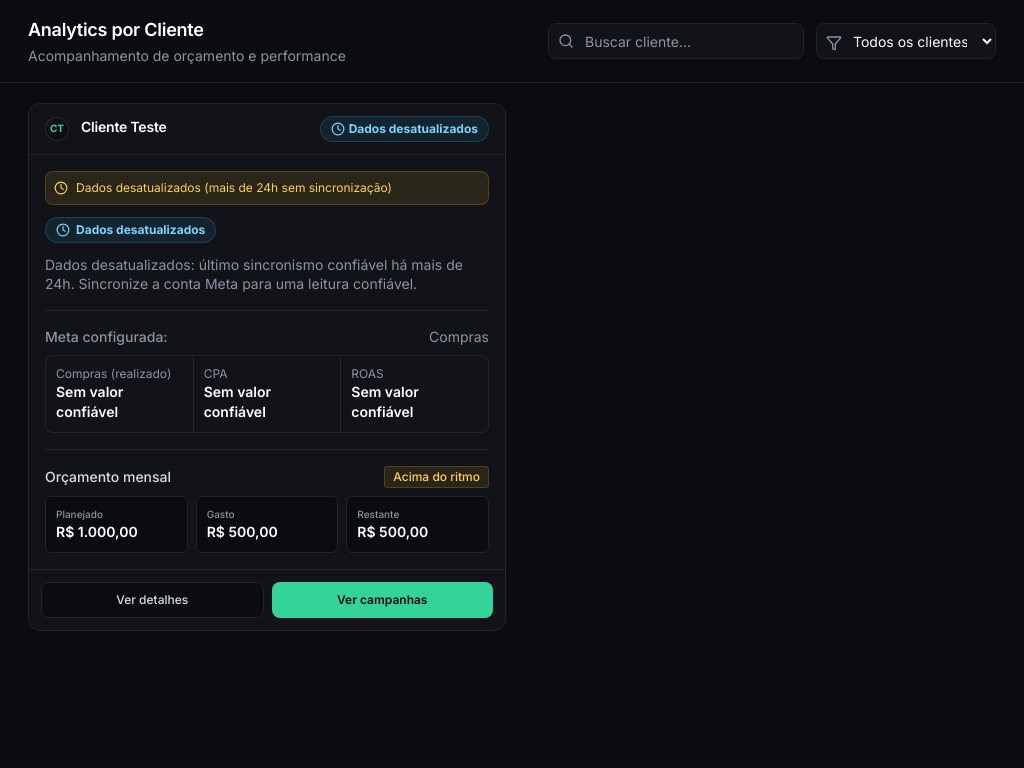
Test case: ClientAnalyticsBoard › "Ver campanhas" opens the campaign drawer, not the analytics detail drawer
What coordinates should you click on to do the following:
click the button "Ver campanhas"
I would click on:
 (382, 600)
Its box is [272,582,493,618].
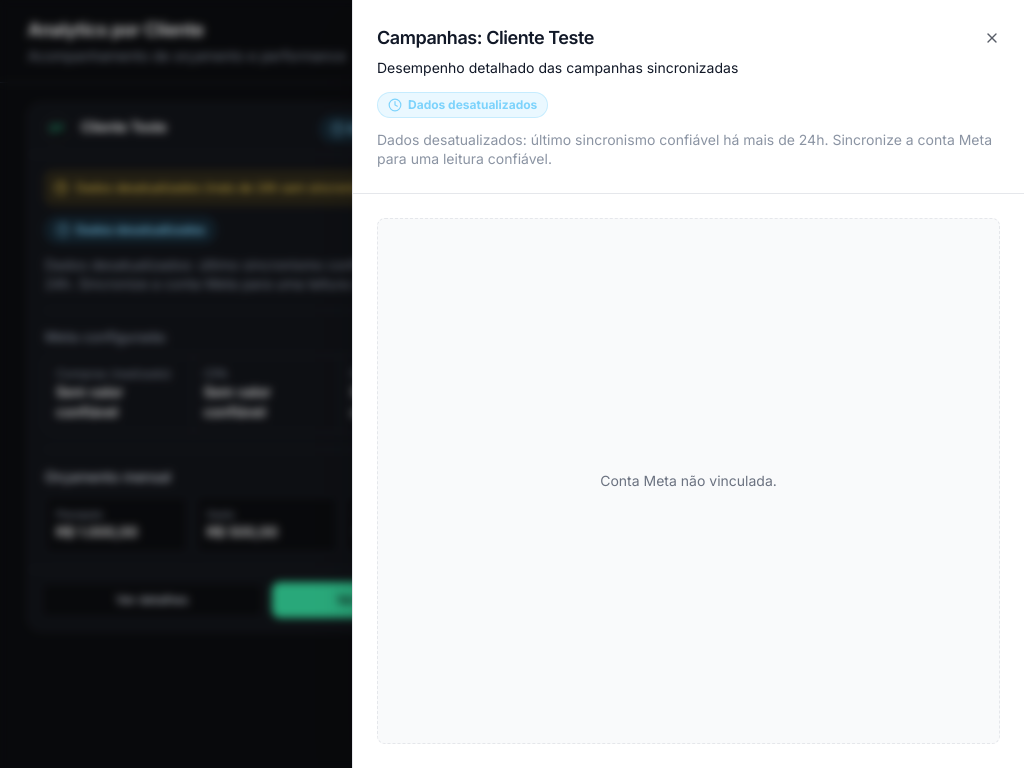
Expected: the text "Desempenho detalhado das campanhas sincronizadas" is shown, [377,59,738,76]
